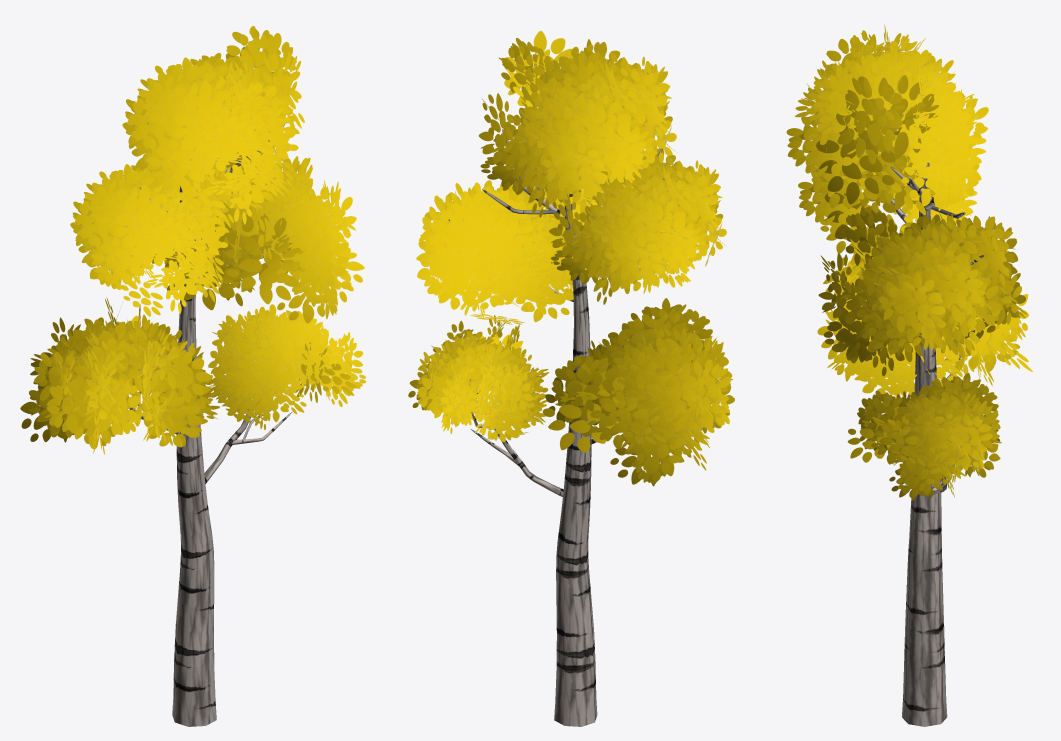
Rendered from BirchTree_1.glb.
The picture shows the model from 3 angles, left to right: view 1: azimuth 30°, elevation 25°; view 2: azimuth 150°, elevation 25°; view 3: azimuth 270°, elevation 25°; orthographic projection. The views are drawn at different scales.
Parts seen in each view (by area): view 1: BirchTree_1; view 2: BirchTree_1; view 3: BirchTree_1.
Boxes of the visible parts, box(x1,y1,x2,y2) form: BirchTree_1: box(20, 26, 365, 726); BirchTree_1: box(408, 30, 734, 726); BirchTree_1: box(786, 24, 1032, 726).
Bounding box in the file's own units: 2.71 × 5.45 × 1.94.
2 materials, 2 textured.
